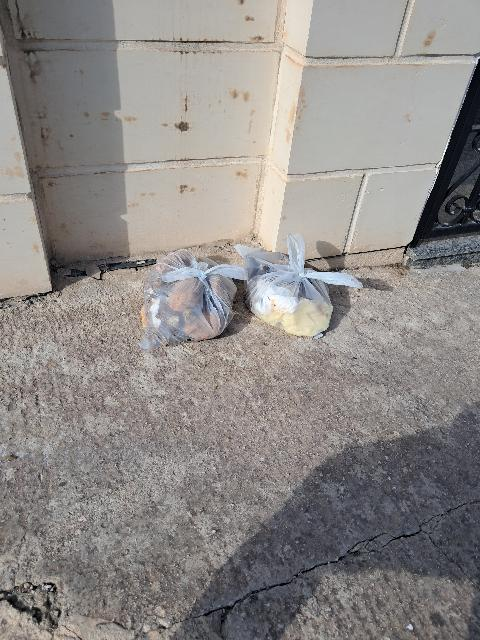Organic -White-: (238, 233, 363, 336), (140, 250, 245, 349)
